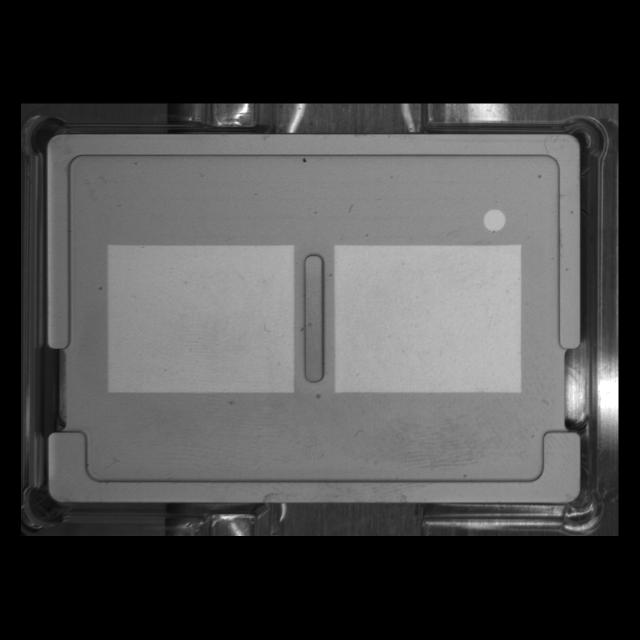door: (39, 420, 588, 509)
point: (480, 203, 510, 236)
